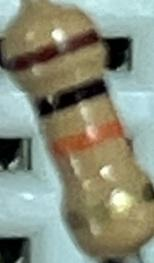Black: (29, 75, 113, 117)
Brown: (2, 28, 101, 77)
Orange: (49, 117, 125, 161)
Side-Silver: (64, 178, 154, 233)
